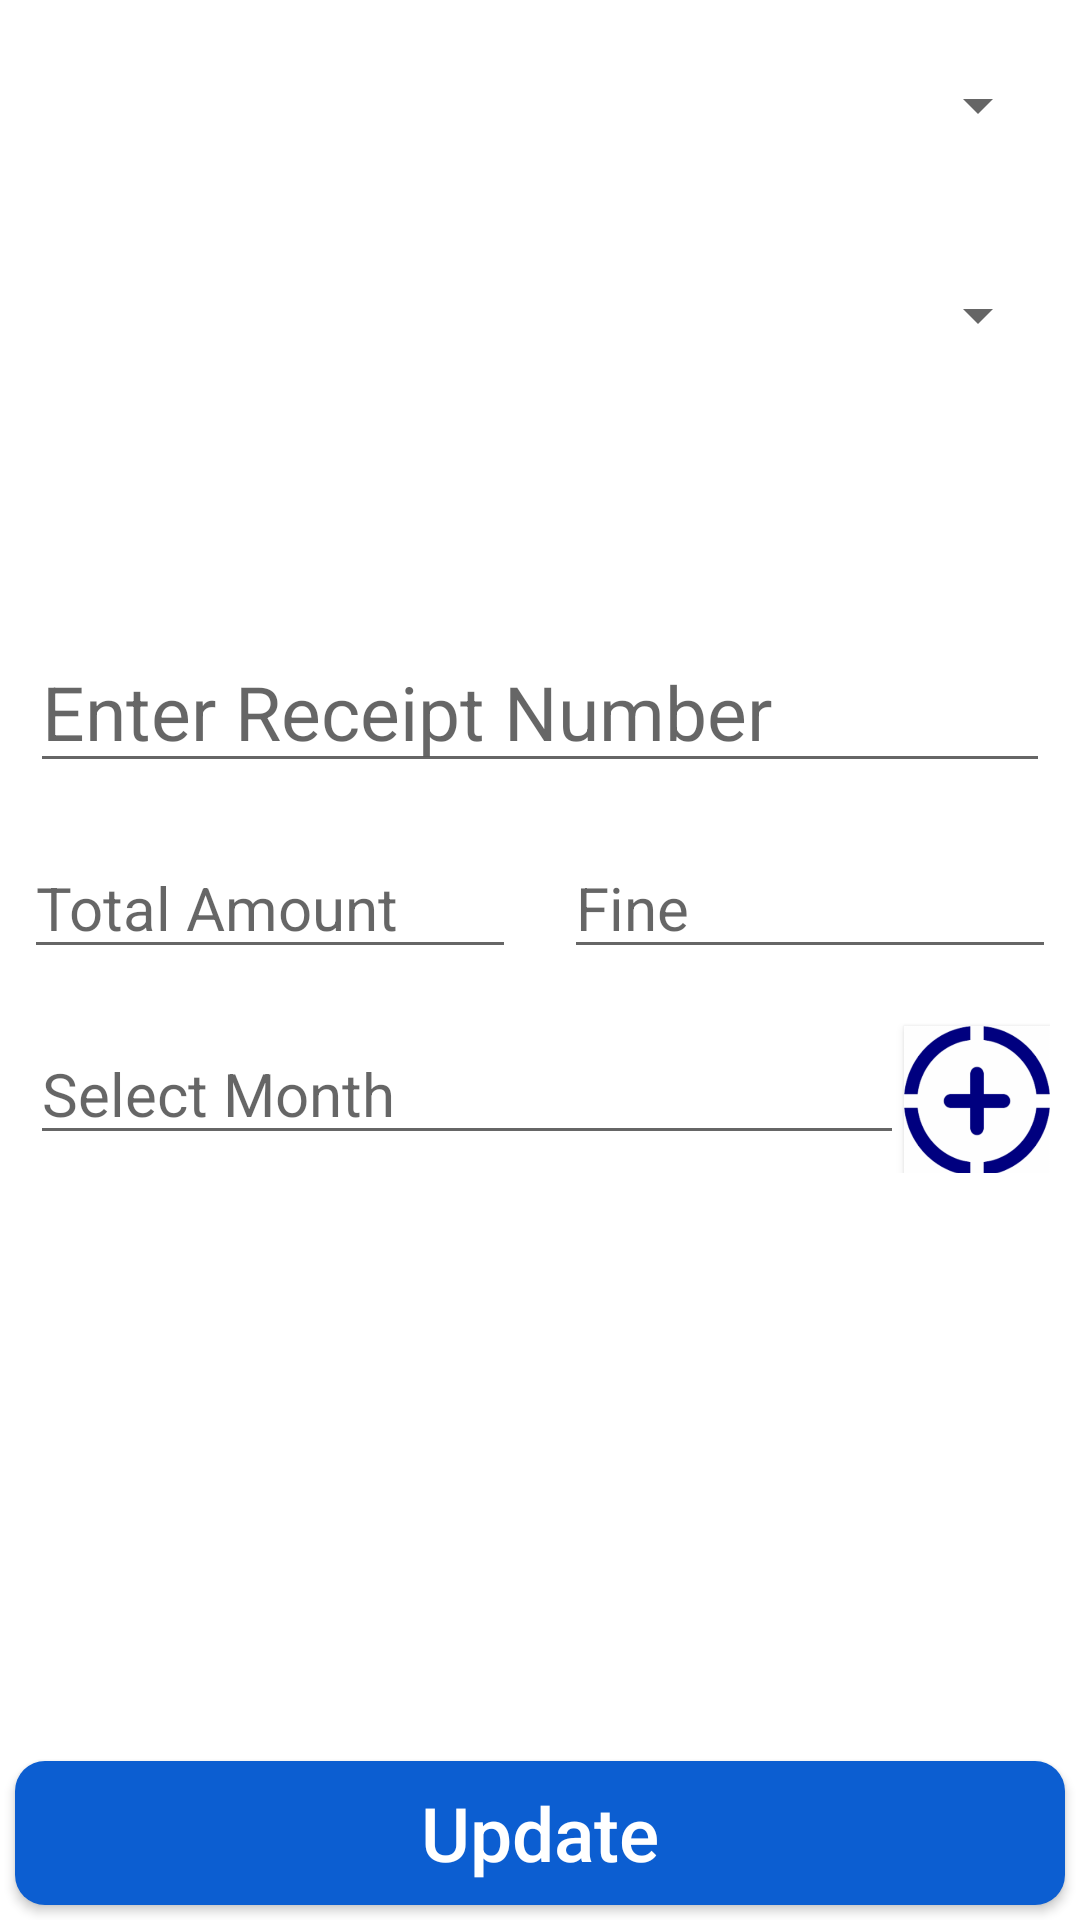

Screen size 1080 × 1920. Icon name, then its box in pixels as (x1=x1, y1=y1, x2=x2, y2=y2):
add: (x1=904, y1=1026, x2=1050, y2=1173)
